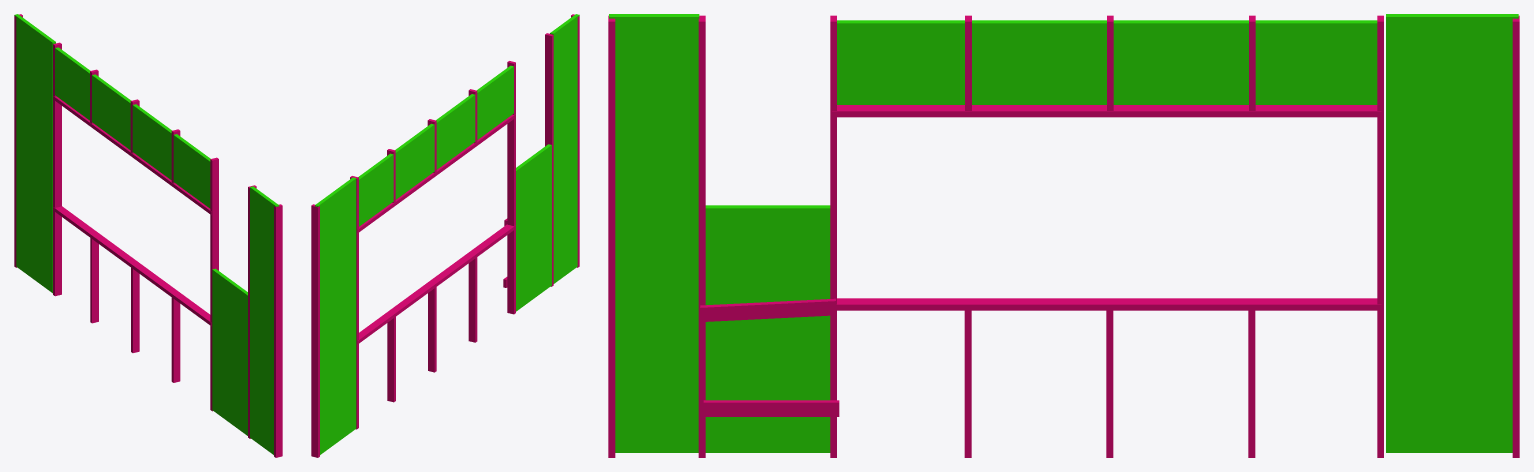
Rendered from BH04_Wall_02_Break_B.fbx.
The picture shows the model from 3 angles, left to right: view 1: azimuth 30°, elevation 25°; view 2: azimuth 150°, elevation 25°; view 3: azimuth 270°, elevation 25°; orthographic projection. The views are drawn at different scales.
Parts seen in each view (by area): view 1: BH04_Wall_02_Break_B; view 2: BH04_Wall_02_Break_B; view 3: BH04_Wall_02_Break_B.
Boxes of the visible parts, x1,y1,x2,y2 form: BH04_Wall_02_Break_B: [14, 14, 282, 457]; BH04_Wall_02_Break_B: [311, 14, 579, 457]; BH04_Wall_02_Break_B: [608, 14, 1519, 457].
Size of the model in its own units: 12.91 by 301 by 568.
